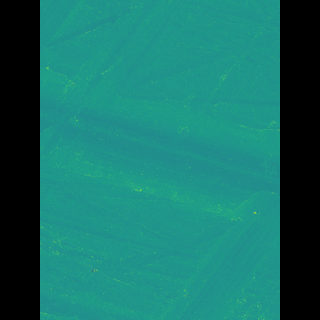Loch: (68, 0, 179, 174), (155, 195, 251, 320)
